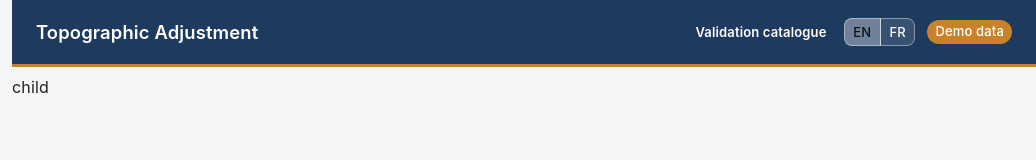
it: AppShell › switches the interface language and remembers the choice
Check: the element with test id "demo-data-badge" reads "Demo data", box [936,23,1004,39]
Click the button with aria-label "French" at (898, 32), box [880,18,916,46]
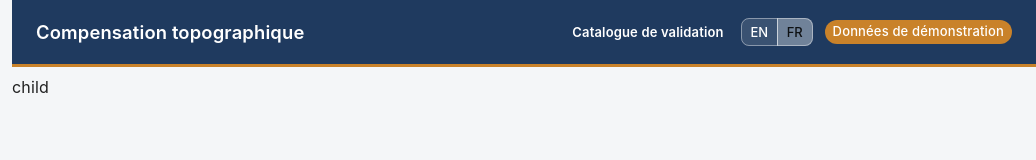
Check: the element with test id "demo-data-badge" reads "Données de démonstration", box [833,23,1004,39]
Check: the link with test id "nav-validation-catalogue" reads "Catalogue de validation", box [572,24,724,40]
